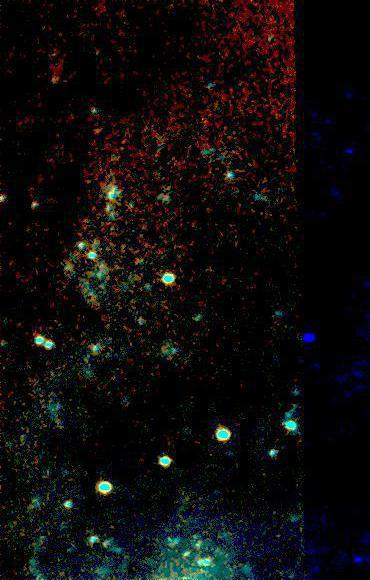star: (73, 118, 103, 148)
